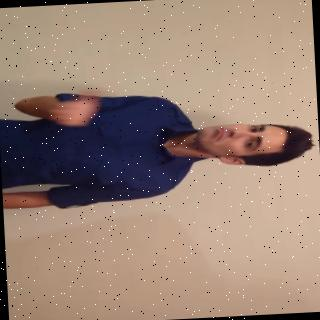ThankYou: (0, 78, 319, 210)
